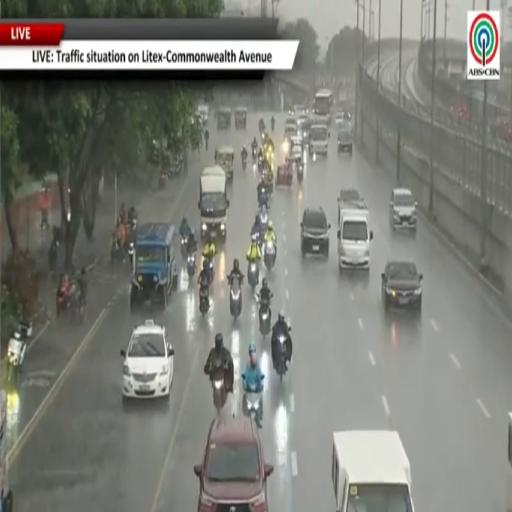bus: (313, 89, 333, 124)
car: (194, 416, 273, 511), (121, 319, 174, 399), (382, 261, 422, 312), (301, 207, 330, 258), (390, 188, 417, 232), (337, 126, 353, 155), (290, 136, 303, 161)
jeepney: (215, 147, 234, 180), (234, 107, 248, 130), (217, 107, 231, 130)
motorcycle: (7, 323, 32, 380), (56, 290, 84, 323), (243, 383, 262, 427), (276, 327, 291, 381), (211, 367, 227, 413), (230, 278, 241, 318), (259, 300, 271, 335), (111, 235, 125, 263), (48, 238, 59, 271), (264, 240, 276, 270), (248, 262, 259, 290), (200, 285, 209, 315), (258, 188, 269, 209), (259, 208, 268, 233), (187, 253, 196, 277), (207, 259, 214, 285), (180, 236, 187, 259), (41, 210, 49, 230), (128, 242, 134, 264), (130, 216, 138, 232), (159, 173, 167, 189), (297, 164, 303, 183), (258, 157, 264, 174), (259, 119, 265, 135), (252, 148, 257, 162), (242, 156, 247, 170), (271, 119, 275, 132), (205, 137, 208, 151)
truck: (333, 430, 413, 511), (129, 223, 177, 308), (337, 199, 373, 270), (198, 166, 229, 241), (0, 391, 19, 511), (337, 189, 367, 225)
